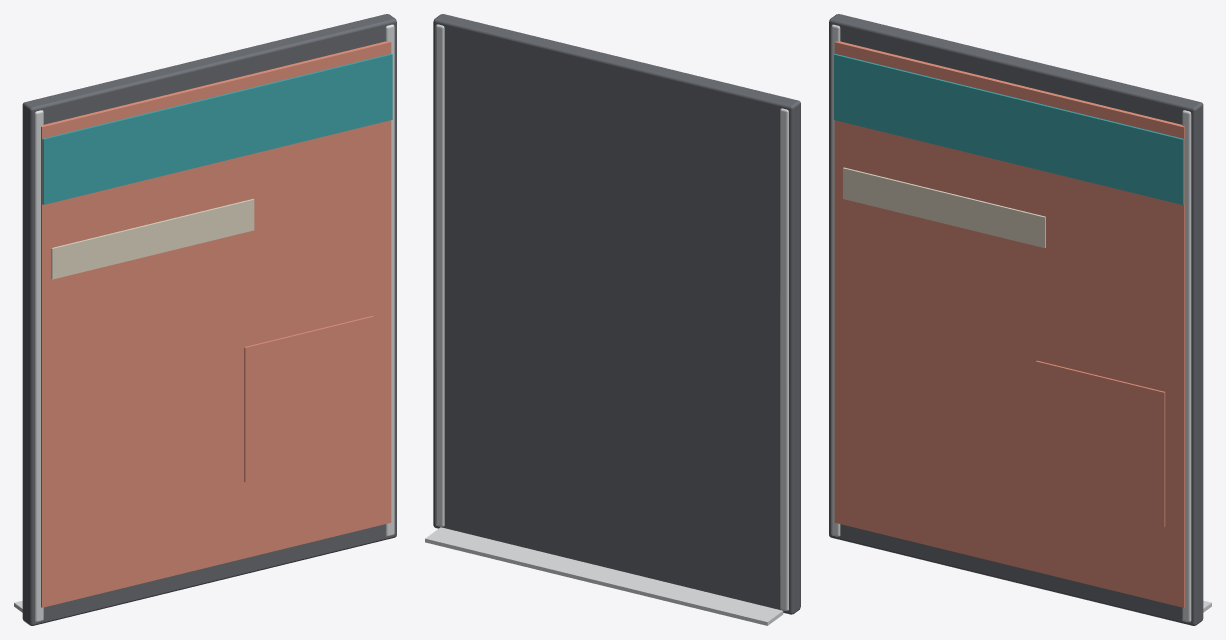
Rendered from public-aquarium-and-marine-centre-wall-graphic-panel-c-e8b56a8f__34173.glb.
The picture shows the model from 3 angles, left to right: view 1: azimuth 30°, elevation 25°; view 2: azimuth 150°, elevation 25°; view 3: azimuth 330°, elevation 25°; orthographic projection.
Parts seen in each view (by area): view 1: wall-graphic-panel-coral; view 2: wall-graphic-panel-coral; view 3: wall-graphic-panel-coral.
Boxes of the visible parts, bbox=[...] form: wall-graphic-panel-coral: bbox=[14, 14, 396, 625]; wall-graphic-panel-coral: bbox=[425, 14, 800, 625]; wall-graphic-panel-coral: bbox=[829, 14, 1211, 625].
Bounding box in the file's own units: 2 × 2.7 × 0.276.
